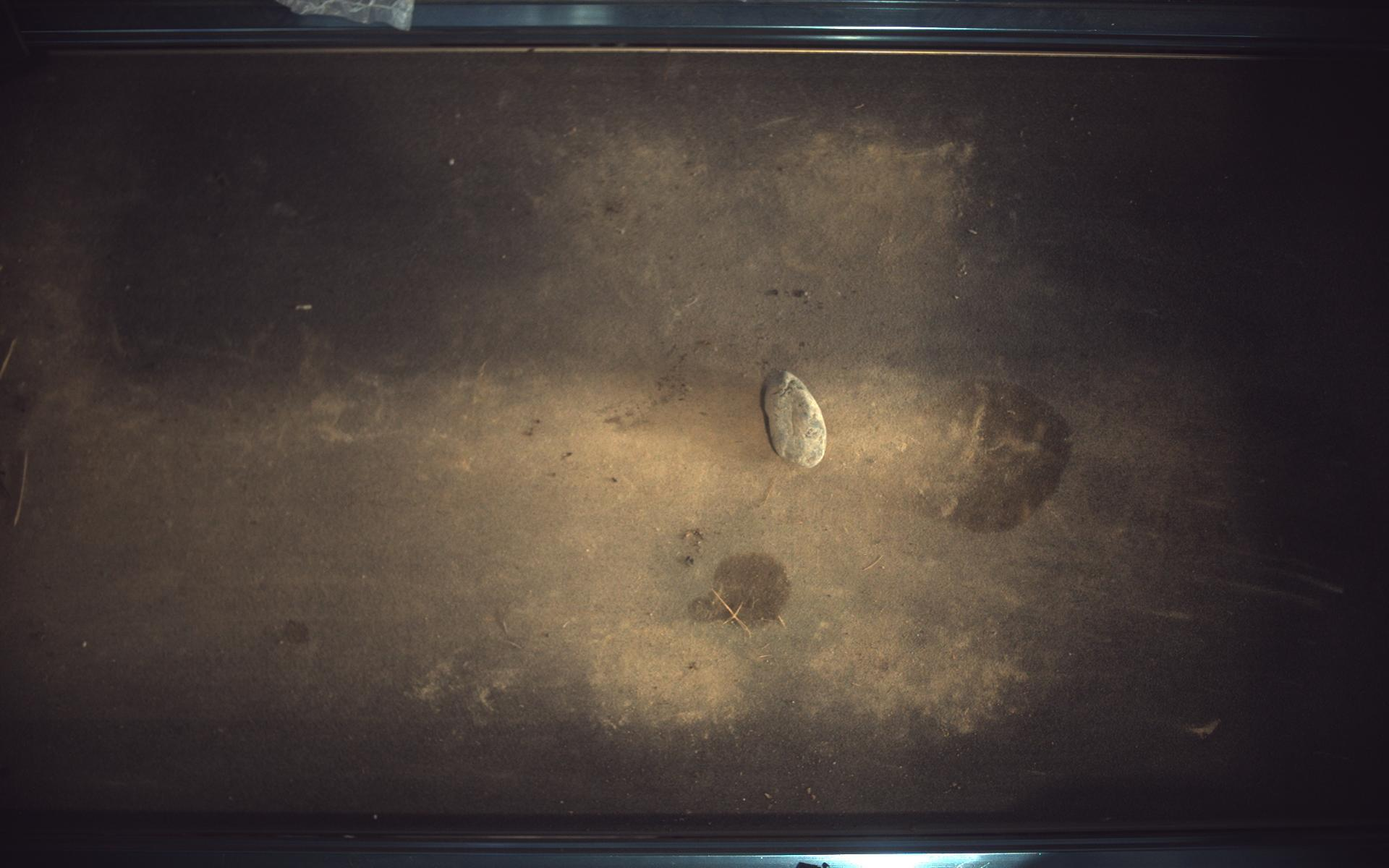stone: (764, 370, 828, 468)
